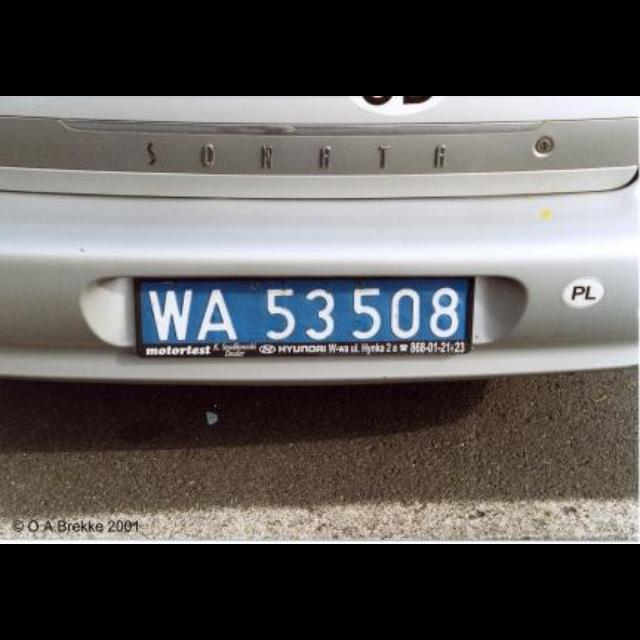pl_license_plate: (140, 278, 464, 342)
